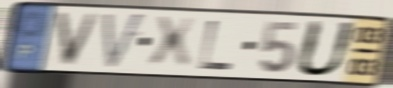5: (259, 19, 303, 75)
L: (196, 18, 236, 72)
U: (293, 18, 361, 79)
V: (53, 9, 103, 69), (100, 11, 148, 73)
X: (146, 15, 199, 71)
